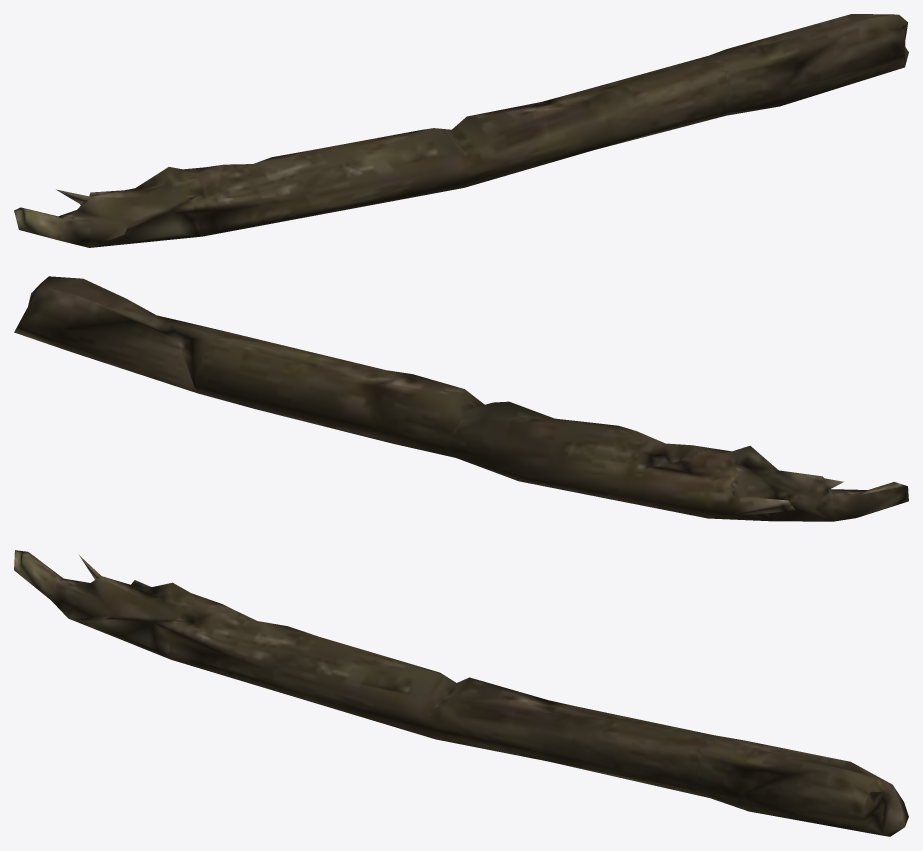
File: dead_tree_trunk_lod.glb
3 views of the same model, one above another, from view 1: azimuth 30°, elevation 25°; view 2: azimuth 150°, elevation 25°; view 3: azimuth 330°, elevation 25° (orthographic).
Parts seen in each view (by area): view 1: dead_tree_trunk; view 2: dead_tree_trunk; view 3: dead_tree_trunk.
Part boxes in pixels (x1=…): dead_tree_trunk: x1=14, y1=14, x2=908, y2=247; dead_tree_trunk: x1=14, y1=276, x2=908, y2=521; dead_tree_trunk: x1=14, y1=550, x2=908, y2=836.
Bounding box in the file's own units: 3.04 × 0.2819 × 0.2607.
Materials: 1 (1 with a texture image).
